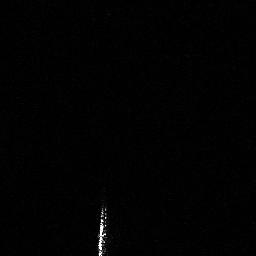ship: (93, 201, 112, 256)
